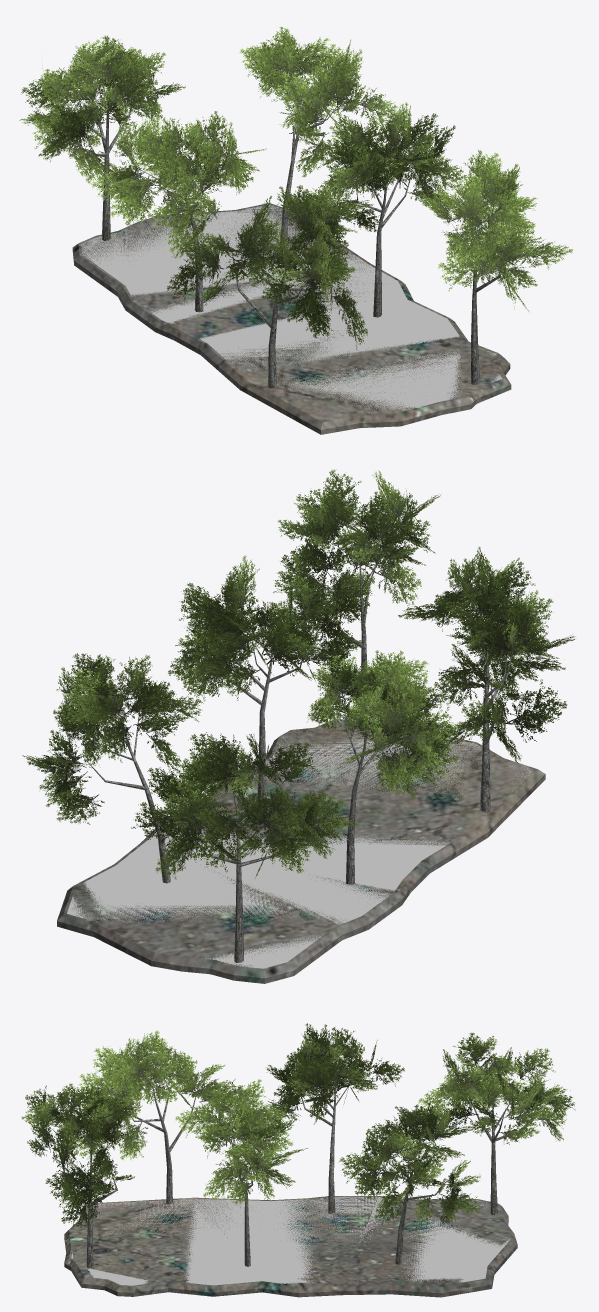
Rendered from cf_ta_colf.obj.
3 views of the same model, one above another, from view 1: azimuth 30°, elevation 25°; view 2: azimuth 150°, elevation 25°; view 3: azimuth 270°, elevation 25° (orthographic). The views are drawn at different scales.
Parts seen in each view (by area): view 1: forest_Plane.001, t3.002, t2.002, t1, t6, t5, t4; view 2: forest_Plane.001, t1, t3.002, t5, t6, t2.002, t4; view 3: forest_Plane.001, t1, t4, t3.002, t6, t5, t2.002.
Part boxes in pixels (x1,y1,x2,y2): forest_Plane.001: (72, 203, 511, 434); t3.002: (167, 185, 367, 388); t2.002: (92, 111, 266, 312); t1: (19, 35, 185, 240); t6: (419, 150, 572, 384); t5: (306, 102, 467, 317); t4: (239, 26, 401, 248); forest_Plane.001: (57, 719, 545, 983); t1: (131, 732, 359, 962); t3.002: (398, 547, 575, 811); t5: (168, 555, 361, 805); t6: (273, 469, 440, 729); t2.002: (307, 650, 458, 884); t4: (22, 653, 203, 883); forest_Plane.001: (64, 1196, 517, 1297); t1: (418, 1033, 575, 1215); t4: (338, 1099, 480, 1264); t3.002: (74, 1030, 263, 1204); t6: (21, 1083, 134, 1268); t5: (175, 1079, 307, 1266); t2.002: (265, 1023, 404, 1213).
Size of the model in its own units: 14.8 by 9.58 by 25.04.
Materials: 1 (1 with a texture image).
